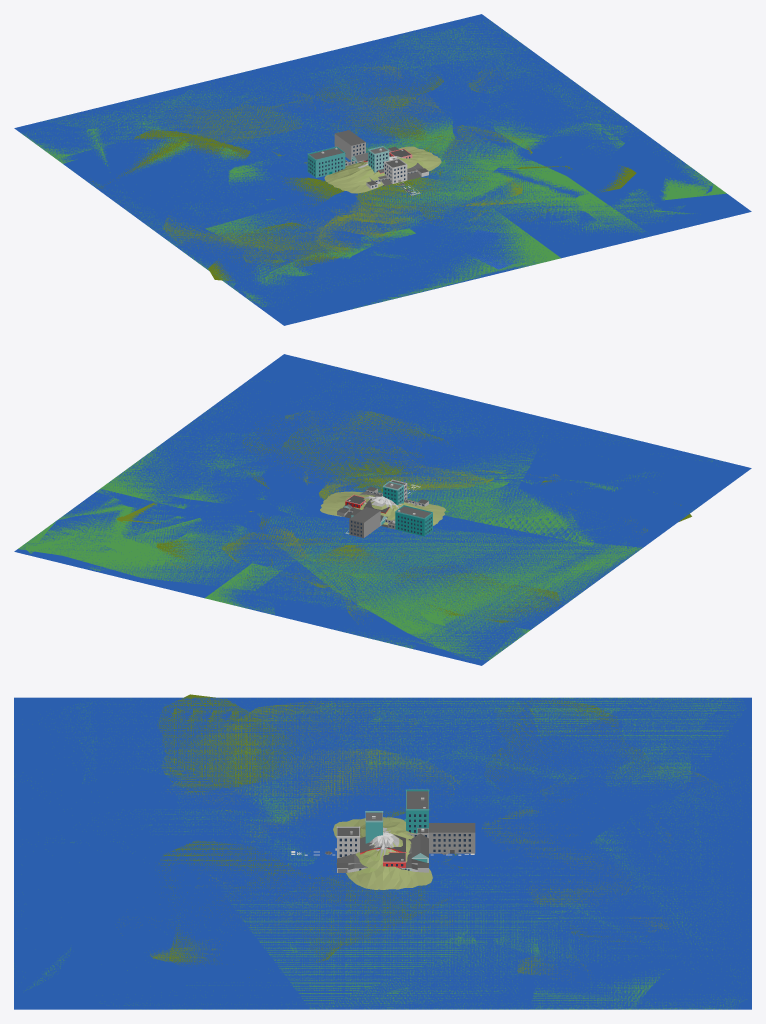
The model's file is cuba.glb.
The picture shows the model from 3 angles, top to bottom: view 1: azimuth 30°, elevation 25°; view 2: azimuth 150°, elevation 25°; view 3: azimuth 270°, elevation 25°; orthographic projection. The views are drawn at different scales.
Parts seen in each view (by area): view 1: cuba_020_lod0, cuba_133_lod0, cuba_136_lod0, cuba_145_lod0, cuba_139_lod0, cuba_143_lod0, cuba_107_lod0_forest, cuba_137_lod0, cuba_129_lod0, cuba_131_lod0, cuba_138_lod0, cuba_106_lod0_forest (+14 smaller); view 2: cuba_129_lod0, cuba_132_lod0, cuba_020_lod0, cuba_128_lod0, cuba_136_lod0, cuba_131_lod0, cuba_130_lod0, cuba_134_lod0, cuba_142_lod0, cuba_140_lod0, cuba_106_lod0_forest, cuba_141_lod0 (+12 smaller); view 3: cuba_020_lod0, cuba_128_lod0, cuba_131_lod0, cuba_143_lod0, cuba_133_lod0, cuba_146_lod0, cuba_129_lod0, cuba_130_lod0, cuba_144_lod0, cuba_107_lod0_forest, cuba_135_lod0, cuba_106_lod0_forest (+16 smaller).
Part boxes in pixels (x1,y1,x2,y2): cuba_020_lod0: (14, 14, 750, 325); cuba_133_lod0: (18, 16, 746, 323); cuba_136_lod0: (21, 16, 739, 323); cuba_145_lod0: (27, 16, 740, 303); cuba_139_lod0: (20, 30, 748, 315); cuba_143_lod0: (23, 18, 693, 306); cuba_107_lod0_forest: (157, 105, 636, 257); cuba_137_lod0: (28, 17, 740, 322); cuba_129_lod0: (15, 16, 749, 325); cuba_131_lod0: (16, 14, 748, 323); cuba_138_lod0: (21, 16, 744, 322); cuba_106_lod0_forest: (92, 68, 523, 281); cuba_129_lod0: (18, 355, 750, 665); cuba_132_lod0: (24, 355, 746, 665); cuba_020_lod0: (15, 354, 751, 665); cuba_128_lod0: (14, 354, 750, 665); cuba_136_lod0: (125, 364, 745, 657); cuba_131_lod0: (30, 356, 747, 663); cuba_130_lod0: (16, 354, 749, 664); cuba_134_lod0: (17, 364, 744, 663); cuba_142_lod0: (70, 369, 738, 657); cuba_140_lod0: (141, 360, 738, 657); cuba_106_lod0_forest: (156, 464, 691, 622); cuba_141_lod0: (135, 362, 737, 642); cuba_020_lod0: (14, 697, 751, 1009); cuba_128_lod0: (14, 698, 751, 1009); cuba_131_lod0: (14, 697, 751, 1009); cuba_143_lod0: (14, 698, 751, 1007); cuba_133_lod0: (14, 697, 751, 1008); cuba_146_lod0: (14, 698, 751, 1009); cuba_129_lod0: (14, 697, 751, 1009); cuba_130_lod0: (14, 698, 751, 1009); cuba_144_lod0: (14, 698, 751, 1009); cuba_107_lod0_forest: (159, 701, 721, 977); cuba_135_lod0: (14, 698, 751, 1009); cuba_106_lod0_forest: (157, 694, 670, 945).
Size of what is drawn, in the model's own units: 4139 by 206 by 4096.
